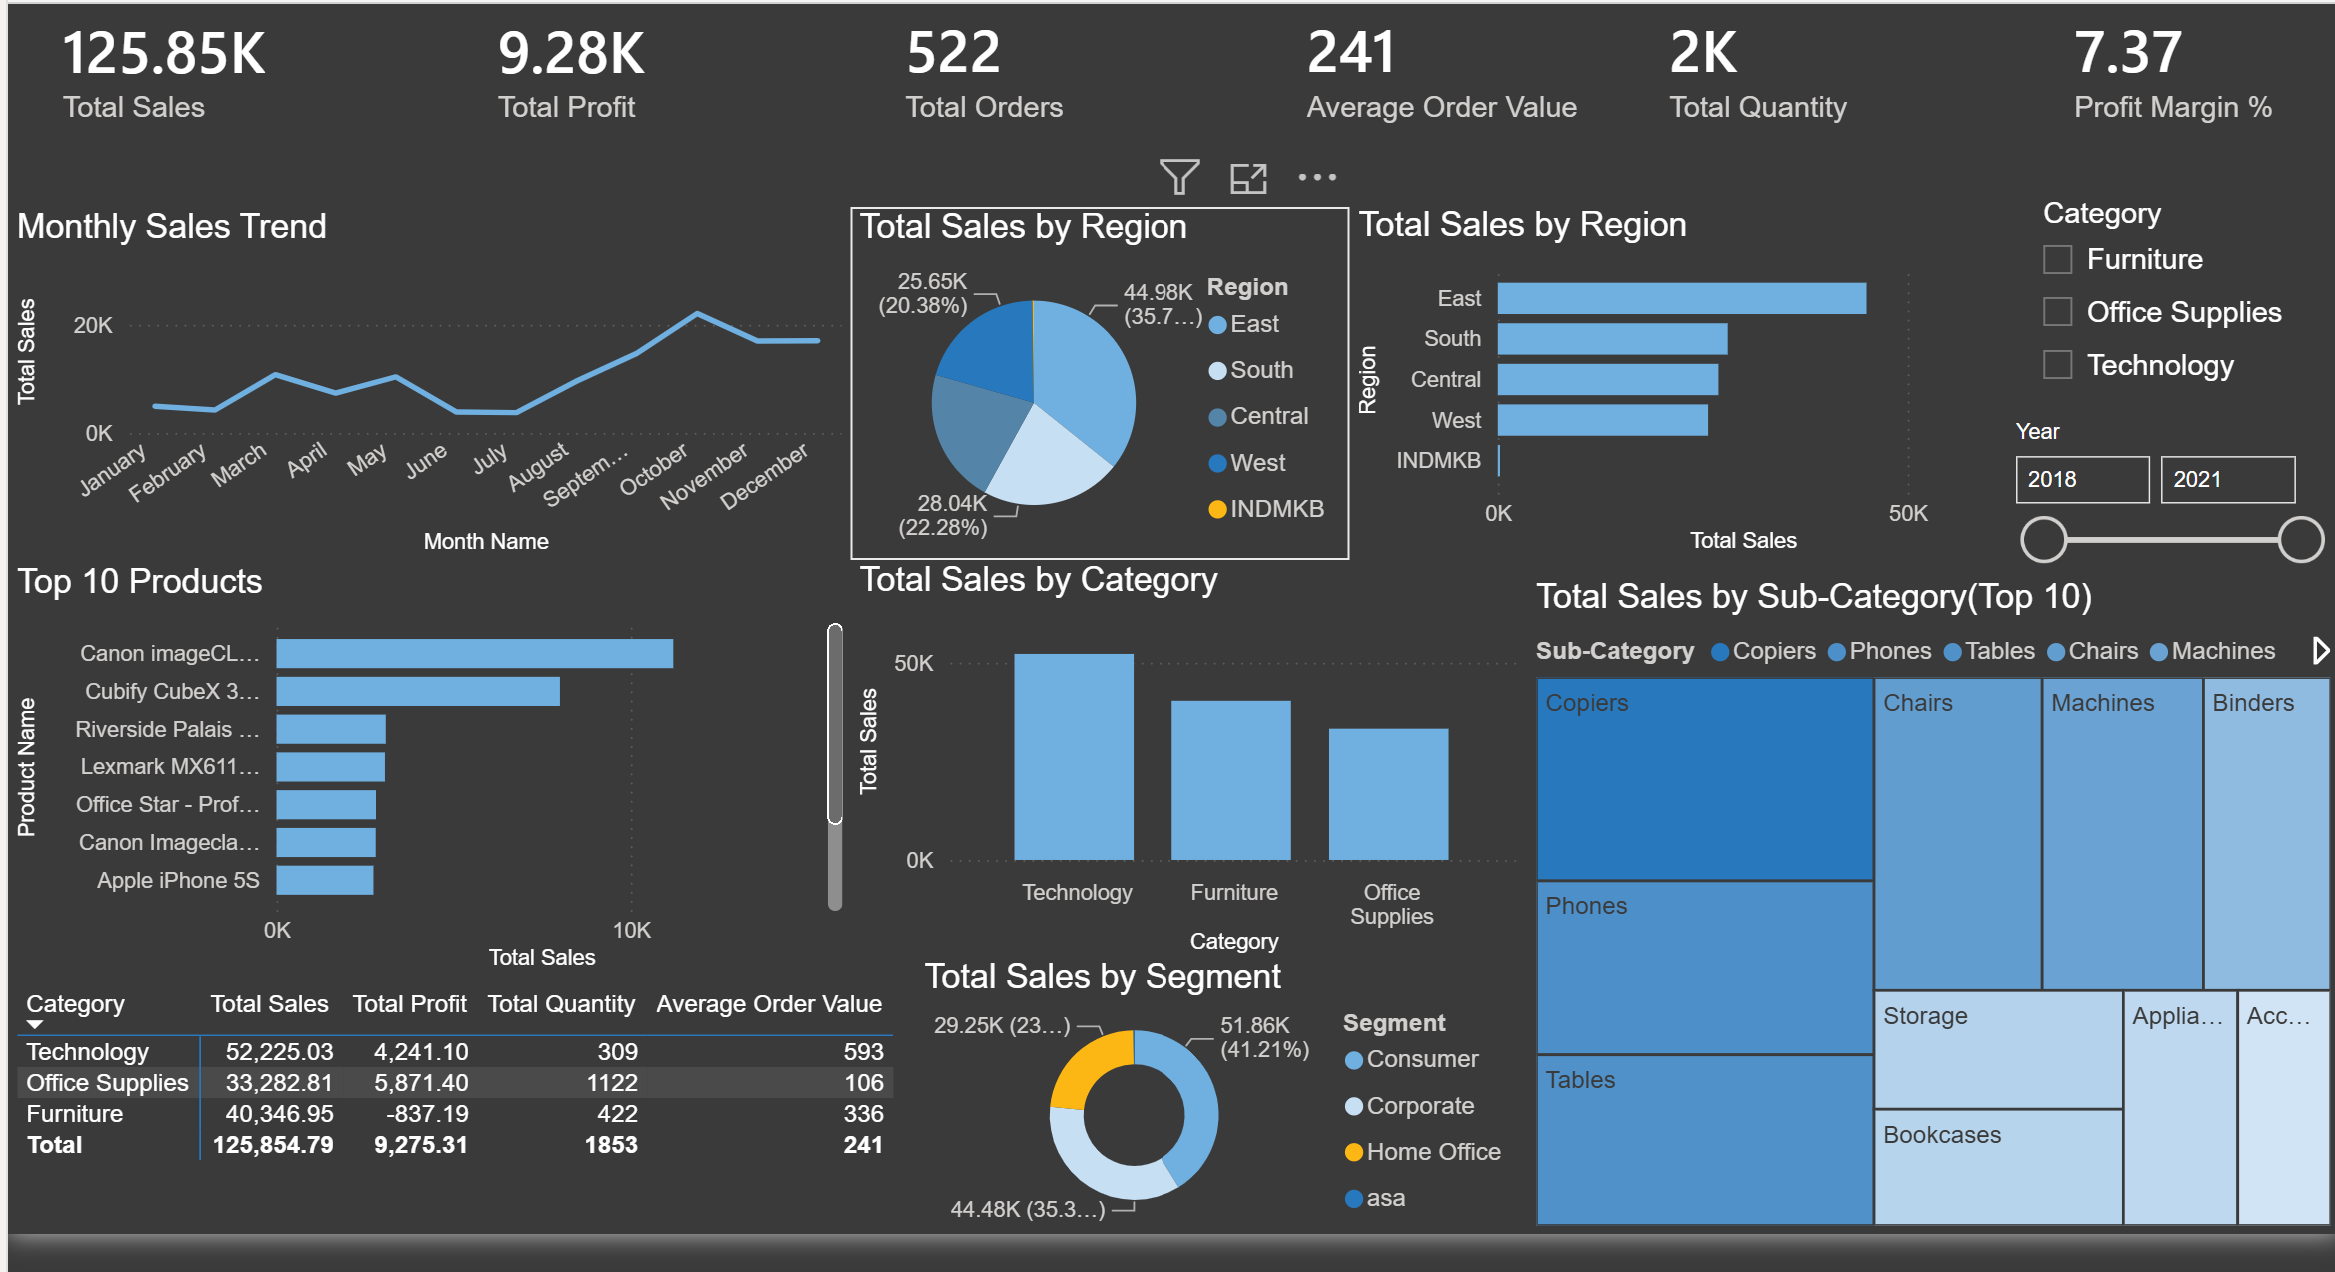

This screenshot's page, from the dashboard's own definition file:
{"tool":"powerbi","page":{"name":"OMARNAFEA","canvas":[1280,720],"ordinal":0},"visuals":[{"type":"cardVisual","fields":{"Data":["DASHBORD.Total Sales"]},"box":[0,0,244.3,157.1],"z":0},{"type":"cardVisual","fields":{"Data":["DASHBORD.Total Profit"]},"box":[238.6,0,244.3,157.1],"z":1000},{"type":"cardVisual","fields":{"Data":["DASHBORD.Total Orders"]},"box":[462.4,0,244.3,156.4],"z":2000},{"type":"cardVisual","fields":{"Data":["DASHBORD.Total Customers"]},"box":[683.8,0,243.8,156.2],"z":3000},{"type":"cardVisual","fields":{"Data":["DASHBORD.Total Quantity"]},"box":[882.3,0,244.3,156.4],"z":4000},{"type":"cardVisual","fields":{"Data":["DASHBORD.Profit Margin %"]},"box":[1104.6,0,175.6,156.4],"z":5000},{"type":"lineChart","title":"Monthly Sales Trend","fields":{"Category":["DIM_DATA.Month Name"],"Y":["DASHBORD.Total Sales"]},"box":[0,156.2,462.5,195],"z":6000},{"type":"clusteredColumnChart","fields":{"Y":["DASHBORD.Total Sales"],"Category":["DIM_PROJECT.Category"]},"box":[462.4,349.9,371.9,220.9],"z":7000},{"type":"clusteredBarChart","fields":{"Y":["DASHBORD.Total Sales"],"Category":["DIM_CUSTOMER.Region"]},"box":[737.1,155.7,367.1,195.7],"z":8000},{"type":"clusteredBarChart","title":"Top 10 Products","fields":{"Y":["DASHBORD.Total Sales"],"Category":["DIM_PROJECT.Product Name"]},"box":[0,351.4,462.9,228.6],"z":9000},{"type":"pivotTable","fields":{"Rows":["DIM_PROJECT.Category"],"Values":["DASHBORD.Total Sales","DASHBORD.Total Profit","DASHBORD.Total Quantity","DASHBORD.Average Order Value"]},"box":[0,580,498.6,140],"z":9001},{"type":"treemap","title":"Total Sales by Sub-Category(Top 10)","fields":{"Values":["DASHBORD.Total Sales"],"Group":["DIM_PROJECT.Sub-Category"]},"box":[834.3,359.5,446,360.9],"z":9002},{"type":"slicer","fields":{"Values":["DIM_CUSTOMER.Segment","DIM_CUSTOMER.Region"]},"box":[621.4,570,170,150],"z":9003},{"type":"slicer","fields":{"Values":["DIM_DATA.Year"]},"box":[1089.5,267.6,190.7,91.9],"z":9004},{"type":"slicer","fields":{"Values":["DIM_PROJECT.Category"]},"box":[1104.3,145.7,175.7,121.4],"z":9005},{"type":"donutChart","fields":{"Y":["DASHBORD.Total Sales"],"Category":["DIM_CUSTOMER.Segment"]},"box":[498.1,568.1,336.2,152.3],"z":9006},{"type":"pieChart","fields":{"Y":["DASHBORD.Total Sales"],"Category":["DIM_CUSTOMER.Region"]},"box":[462.5,156.2,275,193.8],"z":9007}]}

Visuals, with their boxes on the page's 1280x720 design canvas (x1, y1, x2, y2). These are canvas units, not pixel positions in the 2335x1272 screenshot, which may show the page scaled, cropped or inside an application window:
cardVisual - DASHBORD.Total Sales: locate(0, 0, 244, 157)
cardVisual - DASHBORD.Total Profit: locate(239, 0, 483, 157)
cardVisual - DASHBORD.Total Orders: locate(462, 0, 707, 156)
cardVisual - DASHBORD.Total Customers: locate(684, 0, 928, 156)
cardVisual - DASHBORD.Total Quantity: locate(882, 0, 1127, 156)
cardVisual - DASHBORD.Profit Margin %: locate(1105, 0, 1280, 156)
"Monthly Sales Trend" lineChart: locate(0, 156, 462, 351)
clusteredColumnChart - DASHBORD.Total Sales x DIM_PROJECT.Category: locate(462, 350, 834, 571)
clusteredBarChart - DASHBORD.Total Sales x DIM_CUSTOMER.Region: locate(737, 156, 1104, 351)
"Top 10 Products" clusteredBarChart: locate(0, 351, 463, 580)
pivotTable - DIM_PROJECT.Category x DASHBORD.Total Sales: locate(0, 580, 499, 720)
"Total Sales by Sub-Category(Top 10)" treemap: locate(834, 360, 1280, 720)
slicer - DIM_CUSTOMER.Segment x DIM_CUSTOMER.Region: locate(621, 570, 791, 720)
slicer - DIM_DATA.Year: locate(1090, 268, 1280, 360)
slicer - DIM_PROJECT.Category: locate(1104, 146, 1280, 267)
donutChart - DASHBORD.Total Sales x DIM_CUSTOMER.Segment: locate(498, 568, 834, 720)
pieChart - DASHBORD.Total Sales x DIM_CUSTOMER.Region: locate(462, 156, 738, 350)
